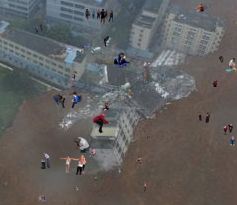Human: (88, 148, 133, 160), (60, 155, 86, 175), (83, 9, 113, 26), (53, 92, 82, 108), (92, 113, 111, 136), (47, 182, 79, 194), (114, 52, 138, 68), (39, 152, 59, 169), (102, 33, 122, 47), (73, 137, 90, 153), (142, 61, 152, 86), (225, 58, 237, 73), (110, 88, 134, 95), (198, 112, 211, 123), (33, 194, 46, 204), (193, 3, 204, 14), (223, 124, 233, 135), (135, 156, 147, 164), (70, 74, 77, 87), (102, 101, 110, 111), (40, 24, 47, 32), (219, 52, 224, 63), (230, 136, 235, 146), (144, 181, 148, 193), (213, 80, 218, 87), (34, 26, 38, 34), (147, 135, 150, 139), (95, 176, 97, 182), (107, 137, 109, 142), (153, 7, 156, 10)
